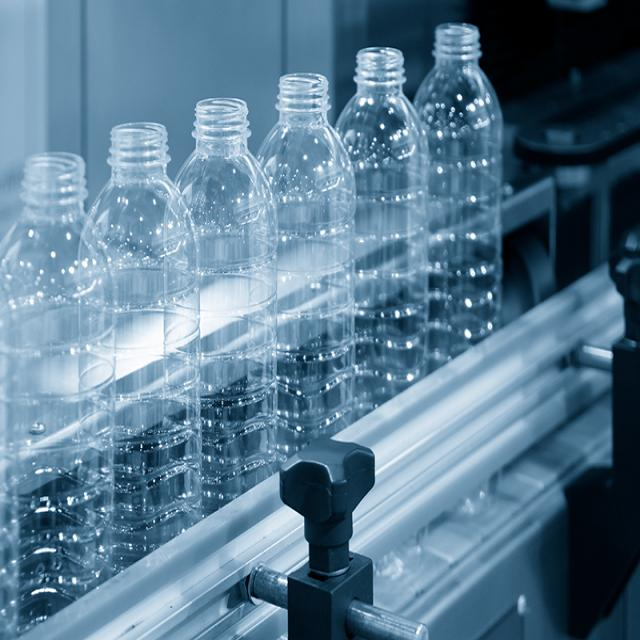neck: (0, 153, 109, 308), (176, 98, 276, 232), (90, 123, 186, 261), (258, 73, 355, 199), (336, 48, 428, 178), (414, 23, 501, 157)
